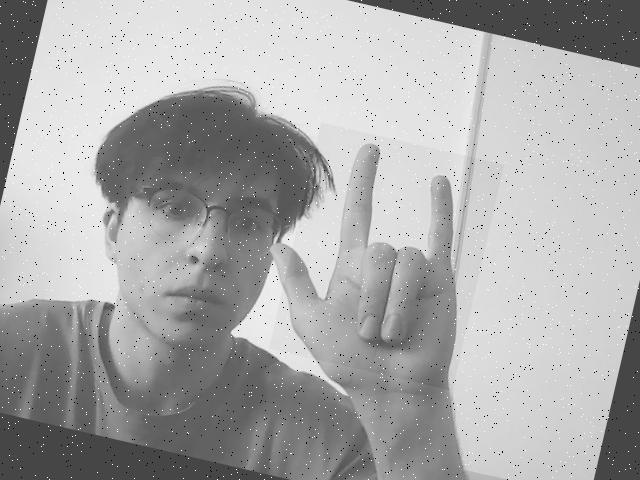I_Love_You: (268, 123, 504, 390)
